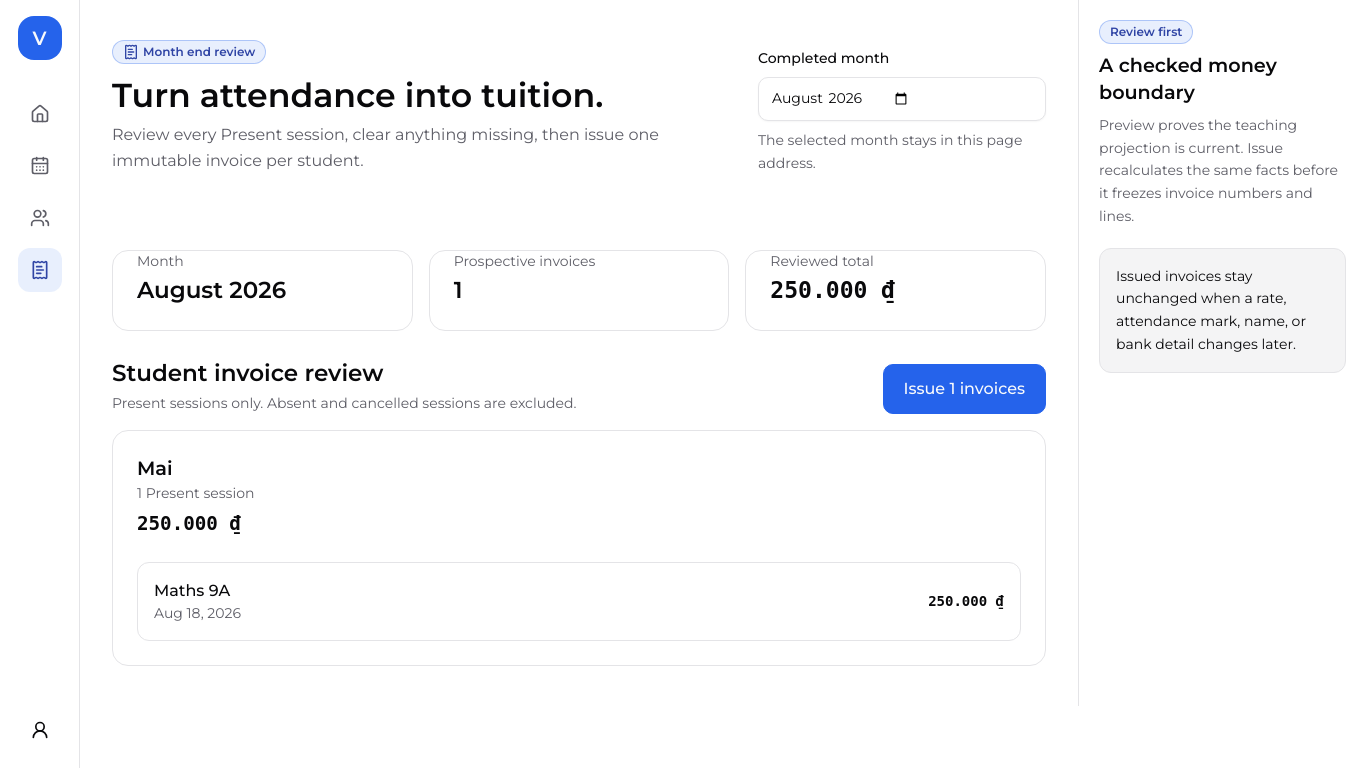
Test case: BillingPage › reviews Present lines and issues only from the displayed fingerprint
This screenshot has width=1366, height=768.
Expected: the heading "Student invoice review" is shown, x1=112 y1=359 x2=383 y2=387
Expected: the text "Maths 9A" is shown, x1=154 y1=581 x2=230 y2=600
Click the button "Issue 1 invoices": [964, 389] box x1=882 y1=364 x2=1046 y2=414
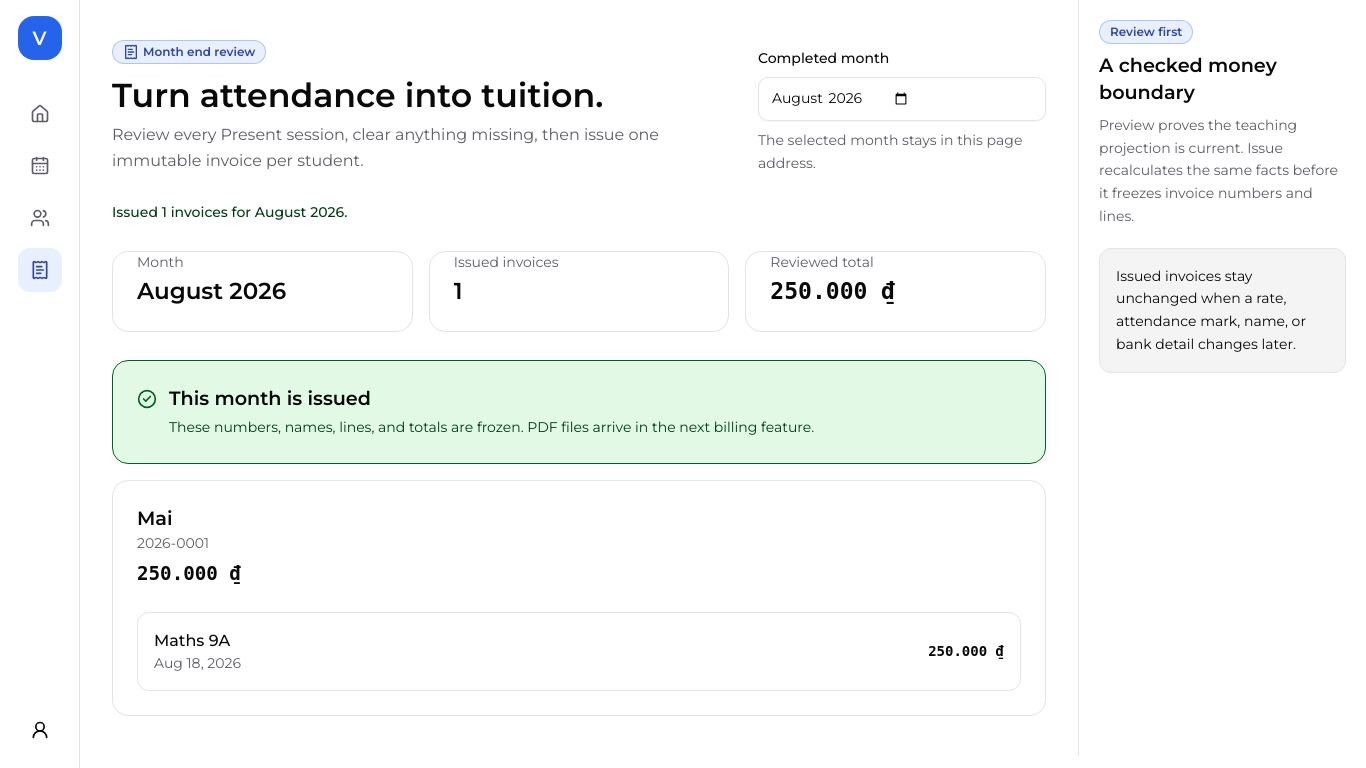
Now the heading "This month is issued" is shown, box x1=169 y1=386 x2=371 y2=410
Now the text "2026-0001" is shown, box x1=137 y1=534 x2=209 y2=552
